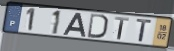1: (52, 10, 63, 35), (26, 8, 36, 33)
A: (62, 12, 87, 38)
D: (87, 13, 109, 40)
T: (135, 19, 154, 44), (114, 16, 130, 41)
